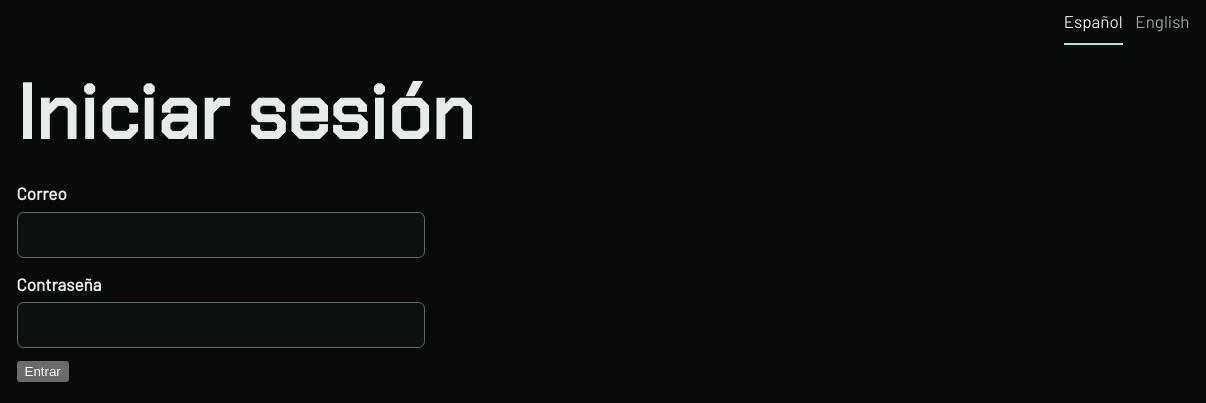
Test: admin panel /admin › a correct login sends the credentials and enters the admin panel
The image size is (1206, 403).
Type "admin@example.com" into the field labelled "Correo" at (220, 235), box x1=16 y1=212 x2=424 y2=258
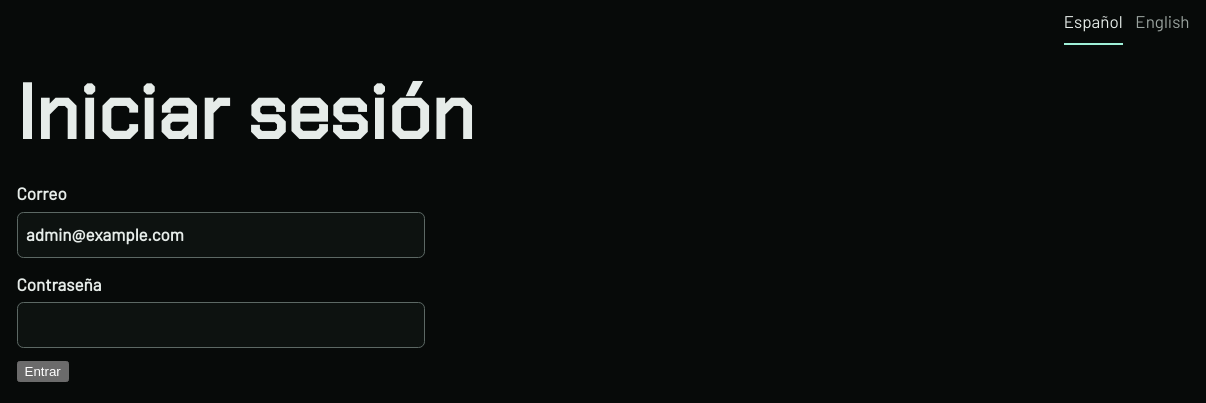
Type "una-clave-larga" into the password field labelled "Contraseña" at (220, 325), box x1=16 y1=302 x2=424 y2=348
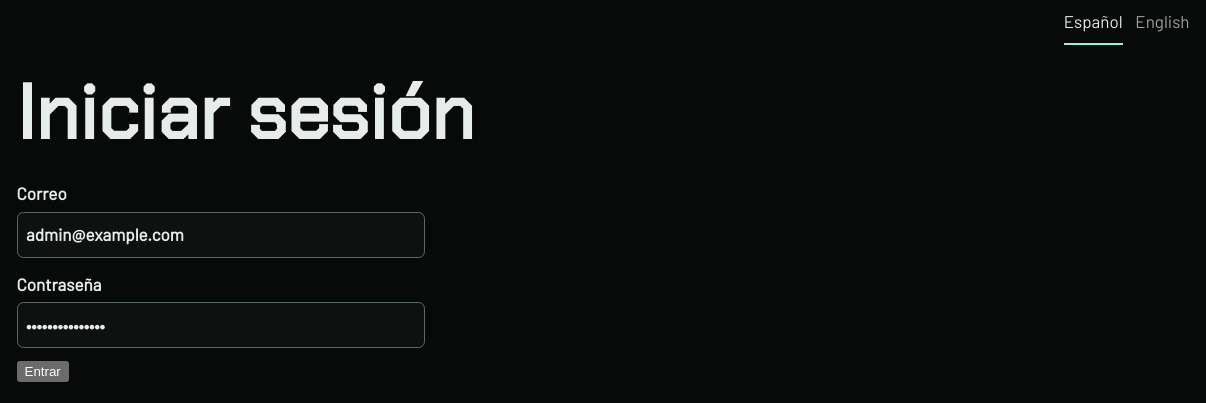
Click the button "Entrar" at (43, 372), box x1=16 y1=361 x2=69 y2=382
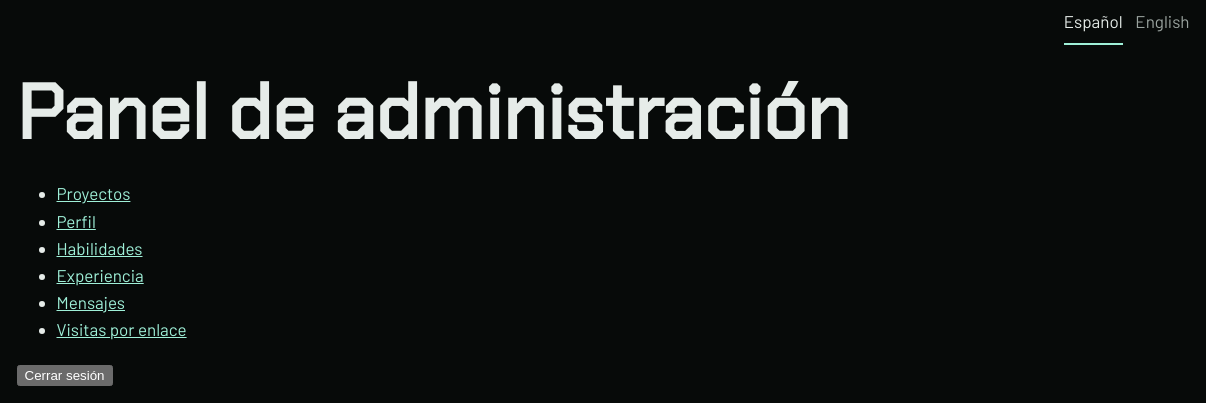
Expected: the heading "Panel de administración" is shown, x1=16 y1=63 x2=850 y2=163
